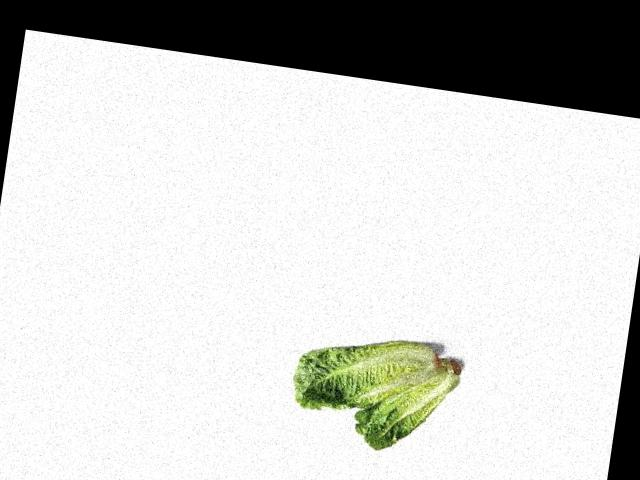lettuce: (283, 323, 462, 457)
